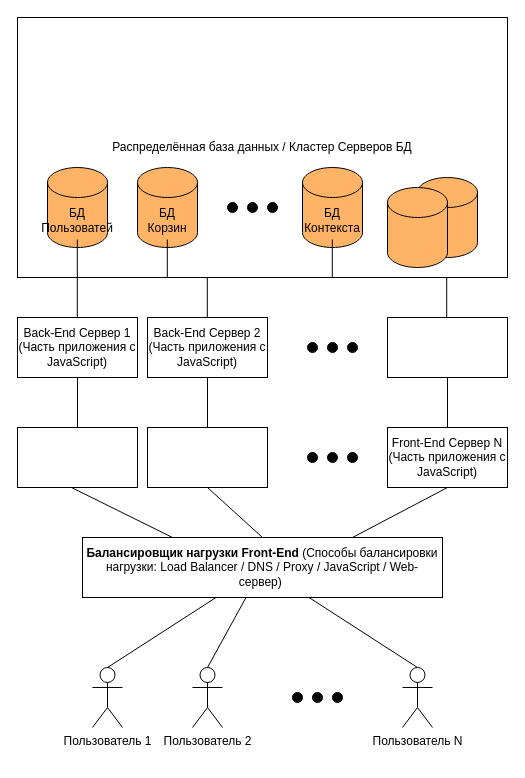
This 525x778 diagram has some shape labels left out. Here are the shapes that lost their labels. From the top down, the centre of each, then its label:
At (447,347): "Back-End Сервер N (Часть приложения с JavaScript)".
At (77,457): "Front-End Сервер 1 (Часть приложения с JavaScript)".
At (207,457): "Front-End Сервер 2 (Часть приложения с JavaScript)".
